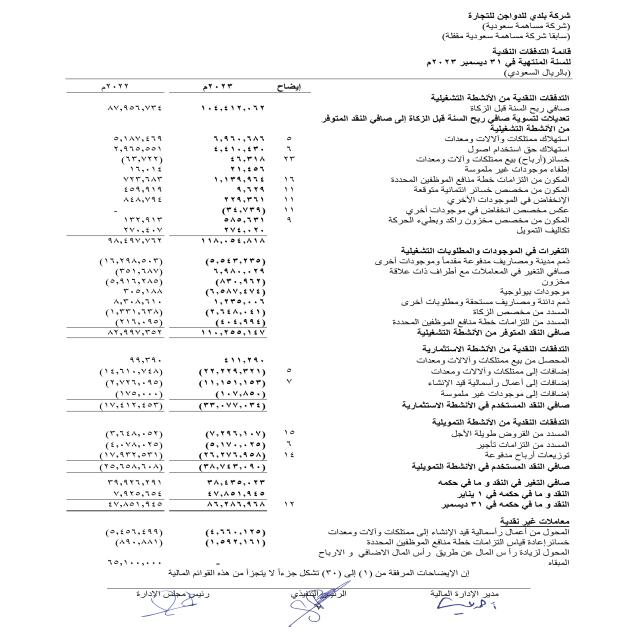financial_sheets: (489, 44, 574, 56)
table: (44, 82, 308, 569)
